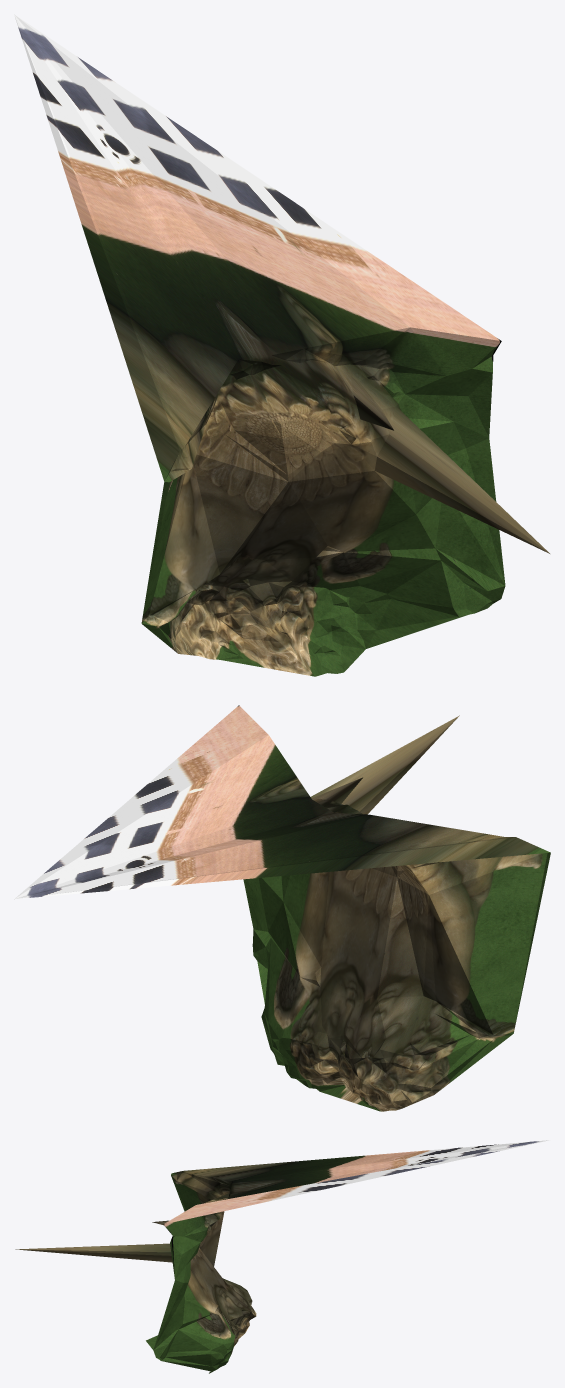
The model's file is sfm_textured_mesh.obj.
3 renders of one model, top to bottom at view 1: azimuth 30°, elevation 25°; view 2: azimuth 150°, elevation 25°; view 3: azimuth 270°, elevation 25°, orthographic. The views are drawn at different scales.
Size of the model in its own units: 0.5608 by 0.6968 by 1.47.
Materials: 1 (1 with a texture image).
